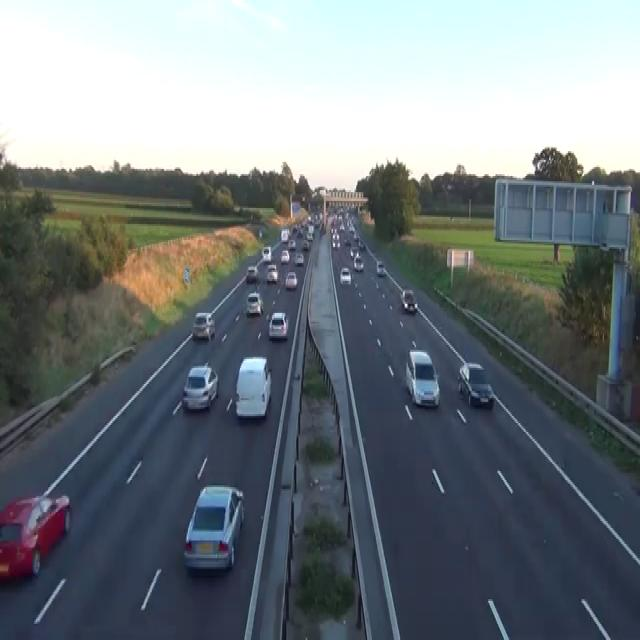Car: (0, 492, 71, 582), (183, 484, 244, 574), (330, 205, 365, 286), (234, 356, 271, 420), (405, 349, 440, 407), (182, 362, 218, 410), (457, 361, 494, 407), (192, 311, 215, 340), (267, 311, 288, 340), (245, 292, 263, 316), (401, 288, 418, 313), (285, 270, 297, 290), (266, 263, 278, 283), (245, 265, 258, 283), (339, 266, 351, 284), (353, 256, 364, 272), (376, 260, 385, 276), (262, 246, 271, 262), (294, 252, 304, 265), (350, 245, 360, 258), (280, 249, 289, 263), (280, 228, 289, 242), (331, 236, 340, 249), (302, 238, 309, 251), (288, 238, 296, 249), (319, 222, 325, 235), (358, 238, 365, 249), (306, 229, 313, 240), (313, 215, 320, 226), (348, 224, 355, 235), (350, 247, 355, 258), (291, 224, 297, 233), (344, 238, 350, 246), (297, 228, 303, 236), (339, 222, 344, 231), (307, 215, 312, 224), (354, 231, 359, 240), (258, 228, 262, 238)
